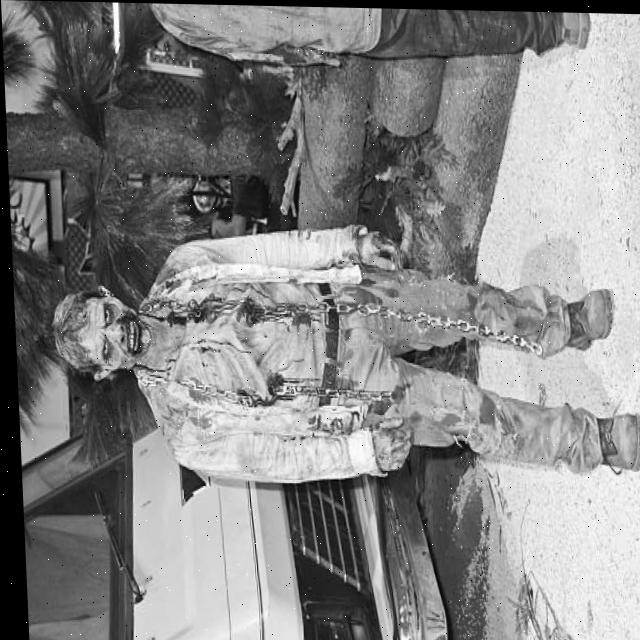Zombie: (50, 286, 150, 378)
